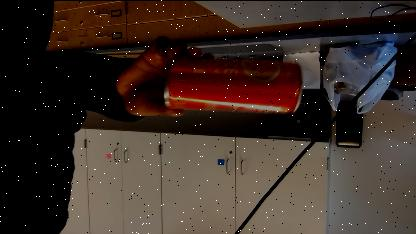Can: (162, 52, 304, 118)
